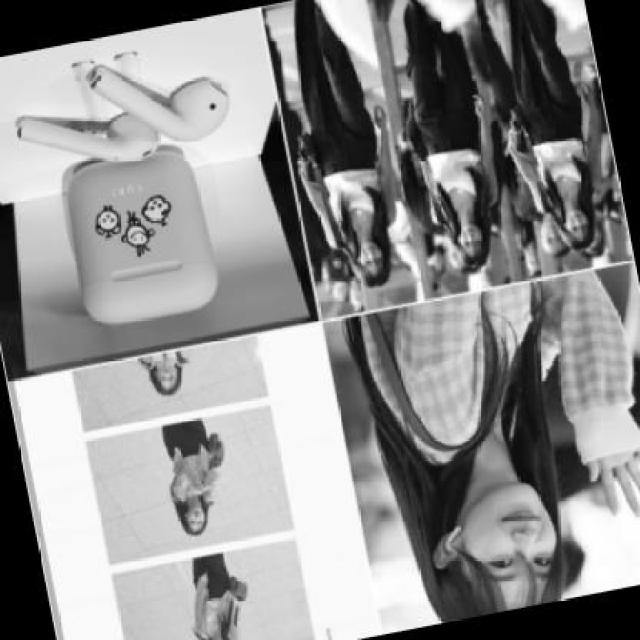earphone: (46, 77, 264, 341), (428, 514, 486, 569)
